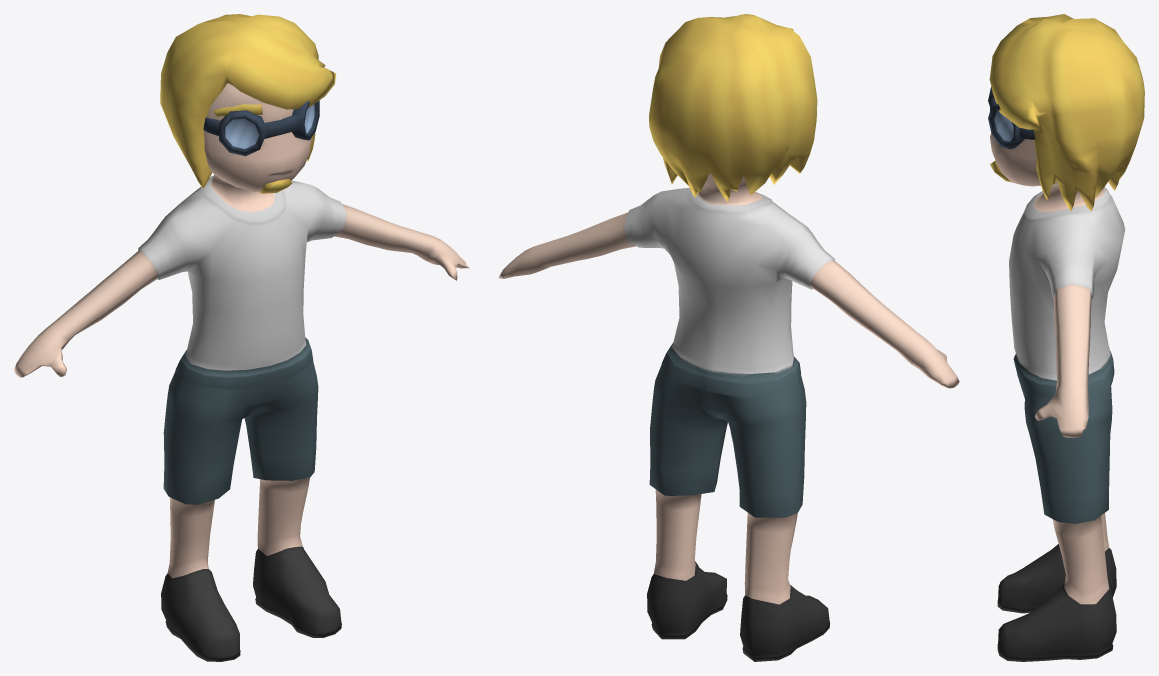
File: Duncan.fbx
The picture shows the model from 3 angles, left to right: view 1: azimuth 30°, elevation 25°; view 2: azimuth 150°, elevation 25°; view 3: azimuth 270°, elevation 25°; orthographic projection.
Parts seen in each view (by area): view 1: polySurface133; view 2: polySurface133; view 3: polySurface133.
Part boxes in pixels (bbox=[...]): polySurface133: bbox=[14, 14, 469, 661]; polySurface133: bbox=[498, 14, 959, 661]; polySurface133: bbox=[988, 14, 1144, 661].
Bounding box in the file's own units: 108 × 139 × 32.82.
